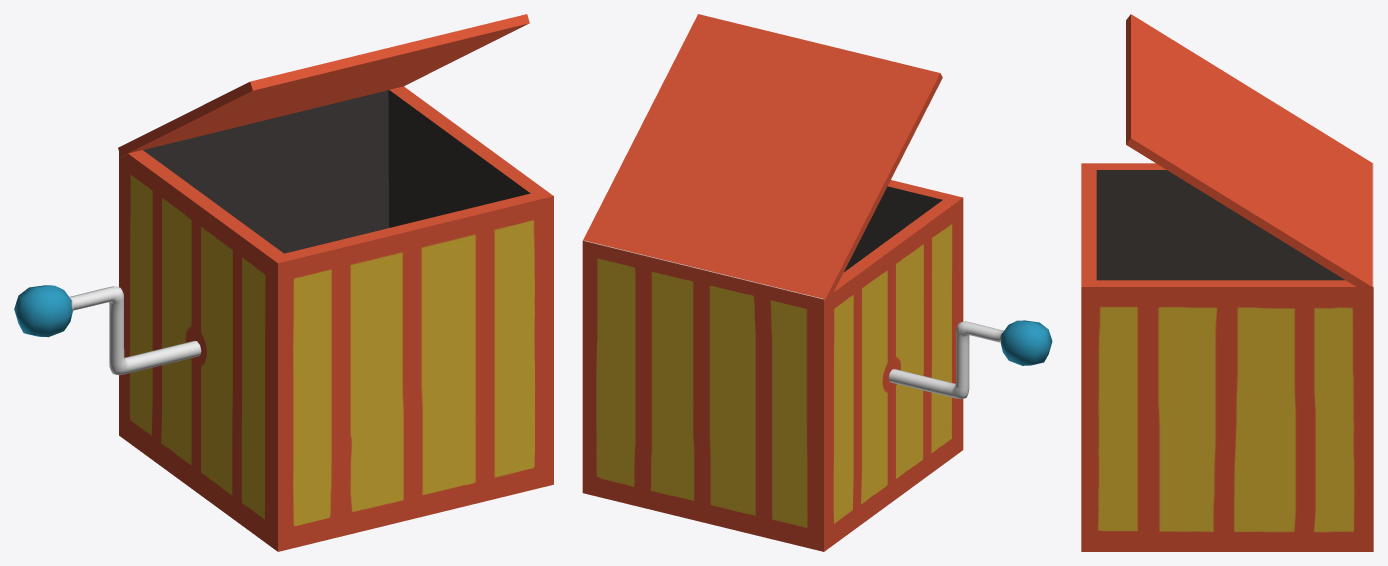
Rendered from Light_Box.fbx.
3 views of the same model, side by side, from view 1: azimuth 30°, elevation 25°; view 2: azimuth 150°, elevation 25°; view 3: azimuth 270°, elevation 25° (orthographic). The views are drawn at different scales.
Visible parts, largest first — view 1: box-handrail; view 2: box-handrail; view 3: box-handrail.
Part boxes in pixels (x1,y1,x2,y2): box-handrail: (14, 14, 553, 551); box-handrail: (582, 14, 1052, 551); box-handrail: (1081, 14, 1373, 551).
Bounding box in the file's own units: 79.99 × 75.73 × 48.48.
2 materials, 1 textured.
